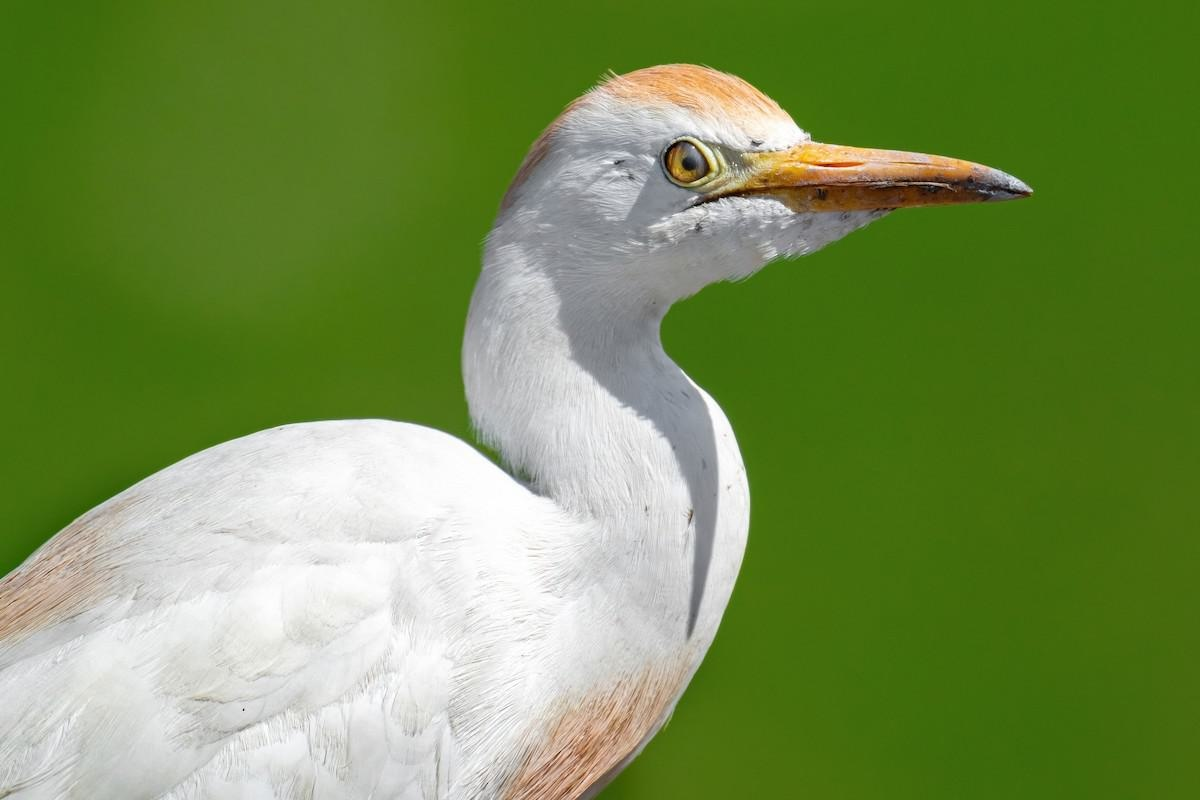egret: (1, 29, 1046, 798)
